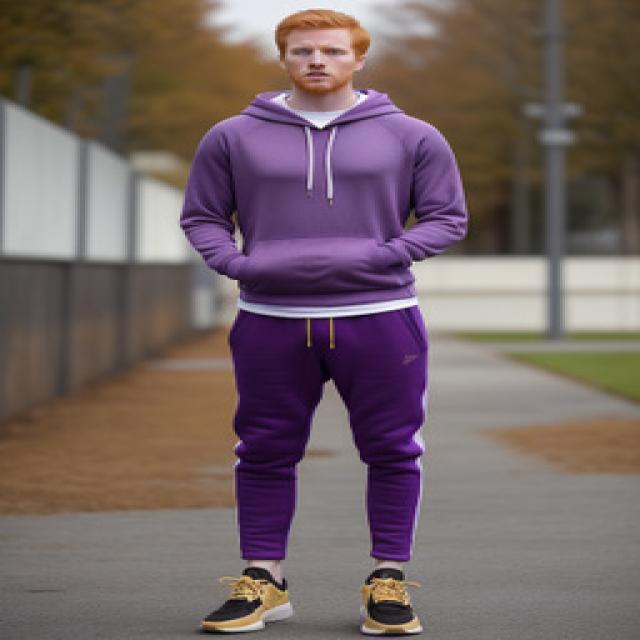Ai human 2: (171, 3, 476, 640)
